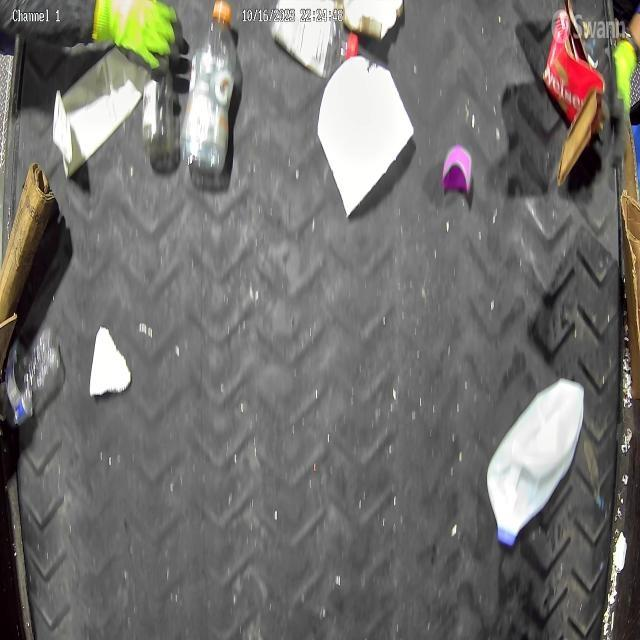milk_jug: (487, 376, 586, 546)
plastic_bottle: (185, 2, 238, 180), (4, 328, 64, 426)
